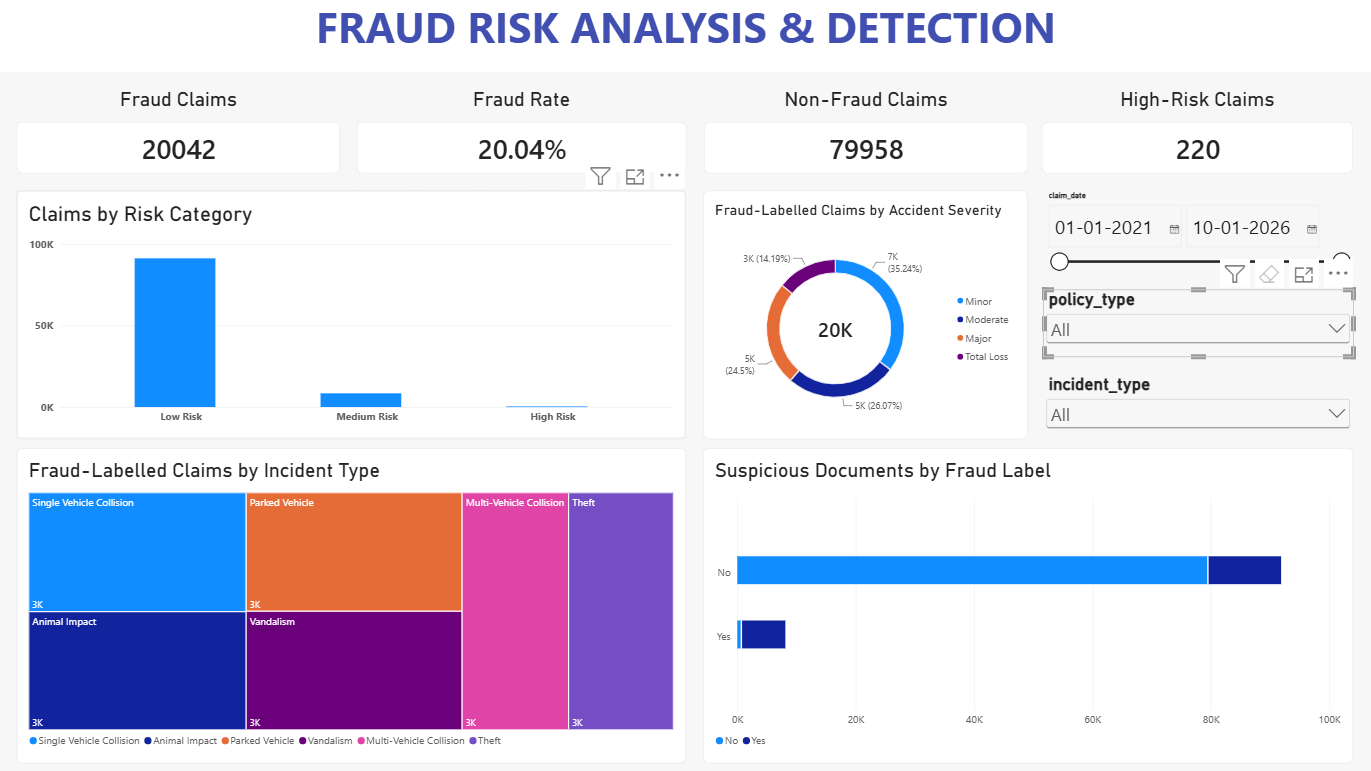

The page's visual inventory and layout, read from the dashboard file:
{"tool":"powerbi","page":{"name":"Fraud Analysis","canvas":[1920,1080],"ordinal":1},"visuals":[{"type":"cardVisual","title":"Fraud Claims","fields":{"Data":["insurance_claim_fraud_powerbi.Fraud Claims"]},"box":[25.7,125.7,451.4,120],"z":0},{"type":"textbox","box":[0,0,1920,102.9],"z":1000},{"type":"cardVisual","title":"High-Risk Claims","fields":{"Data":["insurance_claim_fraud_powerbi.High Risk Claims"]},"box":[1457.1,125.7,434.3,120],"z":2000},{"type":"cardVisual","title":"Non-Fraud Claims","fields":{"Data":["insurance_claim_fraud_powerbi.Non-Fraud Claims"]},"box":[985.7,125.7,451.4,120],"z":3000},{"type":"cardVisual","title":"Fraud Rate","fields":{"Data":["insurance_claim_fraud_powerbi.Fraud Rate %"]},"box":[500,125.7,460,120],"z":4000},{"type":"clusteredColumnChart","title":"Claims by Risk Category","fields":{"Category":["insurance_claim_fraud_powerbi.Risk Category"],"Y":["insurance_claim_fraud_powerbi.Claim Count"]},"box":[26.1,268.7,933.9,347],"z":5000},{"type":"textbox","box":[26,541,451,150],"z":6000},{"type":"donutChart","title":"Fraud-Labelled Claims by Accident Severity","fields":{"Category":["insurance_claim_fraud_powerbi.accident_severity"],"Y":["insurance_claim_fraud_powerbi.Fraud Claims"]},"box":[983.3,269.4,452.8,347.2],"z":7000},{"type":"treemap","title":"Fraud-Labelled Claims by Incident Type","fields":{"Group":["insurance_claim_fraud_powerbi.incident_type"],"Values":["insurance_claim_fraud_powerbi.Fraud Claims"]},"box":[26.7,628.3,933.3,440],"z":8000},{"type":"barChart","title":"Suspicious Documents by Fraud Label","fields":{"Category":["insurance_claim_fraud_powerbi.suspicious_documents"],"Series":["insurance_claim_fraud_powerbi.fraudulent"],"Y":["insurance_claim_fraud_powerbi.Claim Count"]},"box":[983,628,907,440],"z":9000},{"type":"slicer","fields":{"Values":["insurance_claim_fraud_powerbi.claim_date"]},"box":[1458.3,269.4,433.3,116.7],"z":10000},{"type":"slicer","fields":{"Values":["insurance_claim_fraud_powerbi.policy_type"]},"box":[1458.3,405.6,433.3,97.2],"z":11000},{"type":"slicer","fields":{"Values":["insurance_claim_fraud_powerbi.incident_type"]},"box":[1458.3,525,433.3,91.7],"z":12000}]}

Visuals, with their boxes in screenshot pixels (x1, y1, x2, y2), scaled from the page's 1920x1080 canvas onto the 1371x771 screenshot:
"Fraud Claims" cardVisual: 18 90 341 175
textbox: 0 0 1370 73
"High-Risk Claims" cardVisual: 1040 90 1351 175
"Non-Fraud Claims" cardVisual: 704 90 1026 175
"Fraud Rate" cardVisual: 357 90 686 175
"Claims by Risk Category" clusteredColumnChart: 19 192 686 440
textbox: 19 386 341 493
"Fraud-Labelled Claims by Accident Severity" donutChart: 702 192 1025 440
"Fraud-Labelled Claims by Incident Type" treemap: 19 449 686 763
"Suspicious Documents by Fraud Label" barChart: 702 448 1350 762
slicer - insurance_claim_fraud_powerbi.claim_date: 1041 192 1351 276
slicer - insurance_claim_fraud_powerbi.policy_type: 1041 290 1351 359
slicer - insurance_claim_fraud_powerbi.incident_type: 1041 375 1351 440
